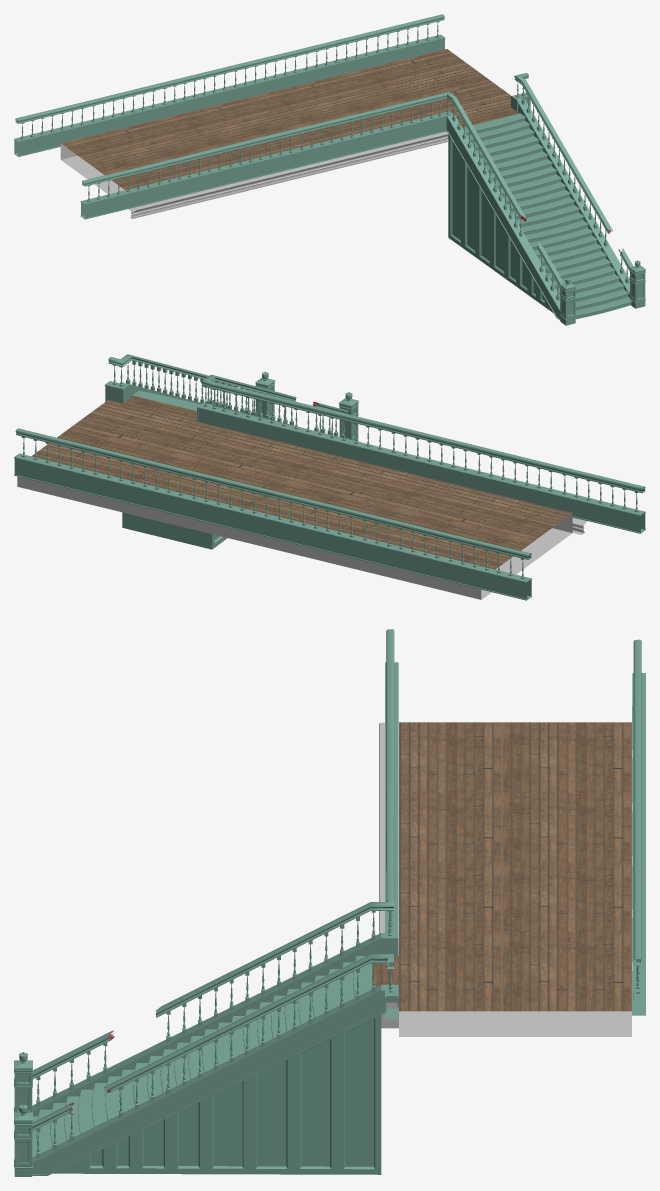
The model's file is damagedstair_case.fbx.
The picture shows the model from 3 angles, top to bottom: view 1: azimuth 30°, elevation 25°; view 2: azimuth 150°, elevation 25°; view 3: azimuth 270°, elevation 25°; orthographic projection. The views are drawn at different scales.
Parts seen in each view (by area): view 1: polySurface6673; view 2: polySurface6673; view 3: polySurface6673.
Part boxes in pixels (x1,y1,x2,y2): polySurface6673: (14,14,645,325); polySurface6673: (14,354,645,600); polySurface6673: (14,629,645,1176).
Size of the model in its own units: 16.94 by 5.17 by 13.55.
